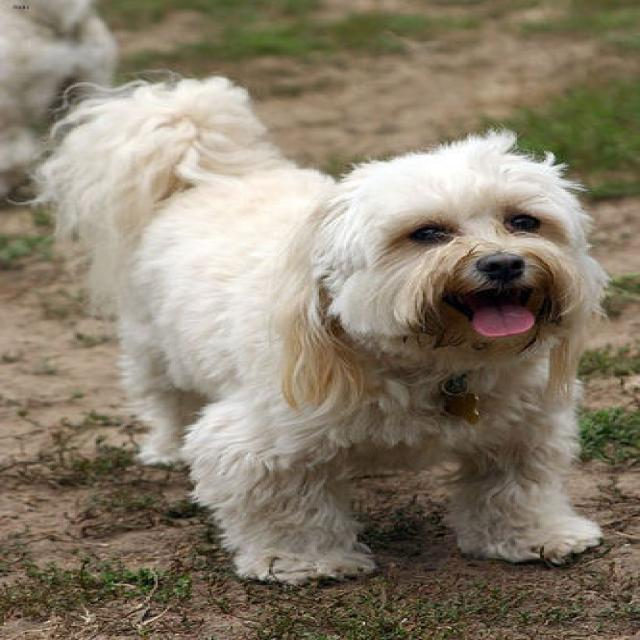dog-havanese: (12, 61, 617, 594)
